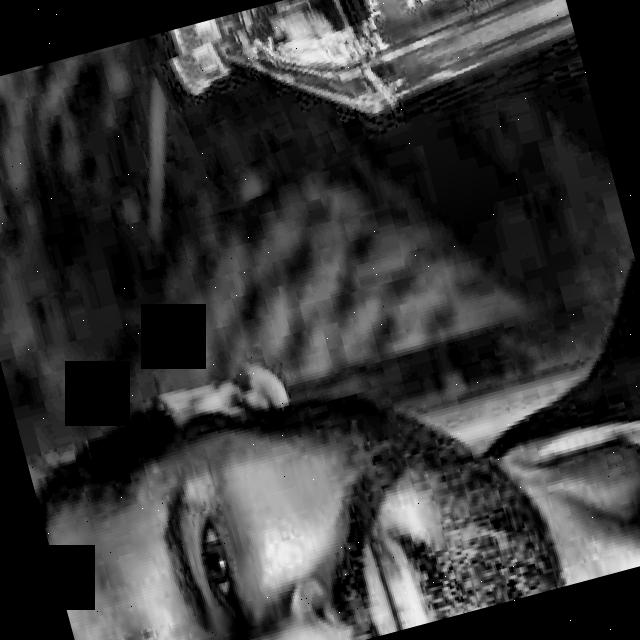bottle: (147, 0, 591, 203)
